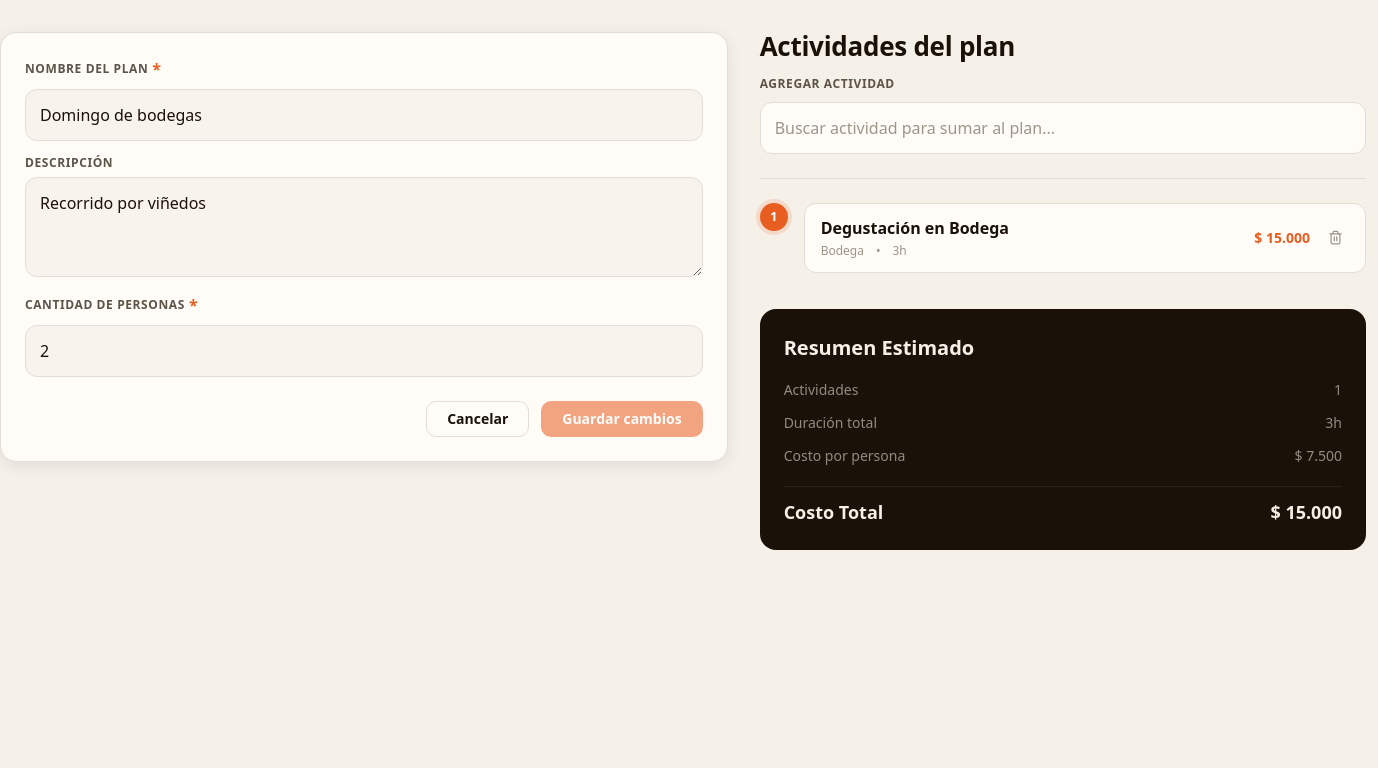
Scenario: EditPlanForm › loads existing plan values and updates fields on submit (CU25)
This screenshot has width=1378, height=768.
Expected: the text box labelled "Descripción" holds "Recorrido por viñedos", [25,177,703,277]
Expected: the number field labelled "Cantidad de personas" holds "2", [25,325,703,377]
Replace the text in the field labelled "Nombre del plan" with "Domingo en Luján" at (364, 115), box [25,89,703,141]
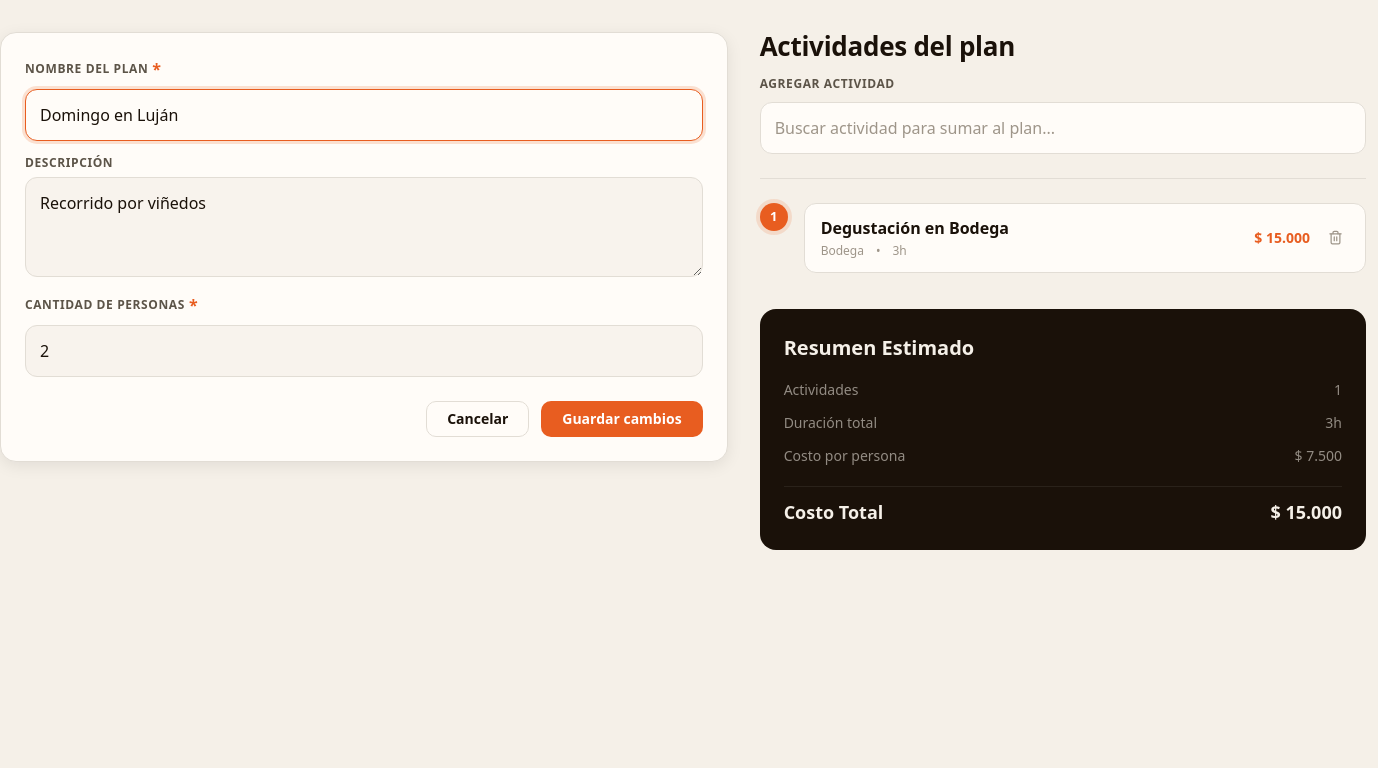
Replace the text in the text box labelled "Descripción" with "Nueva descripción" at (364, 227), box [25,177,703,277]
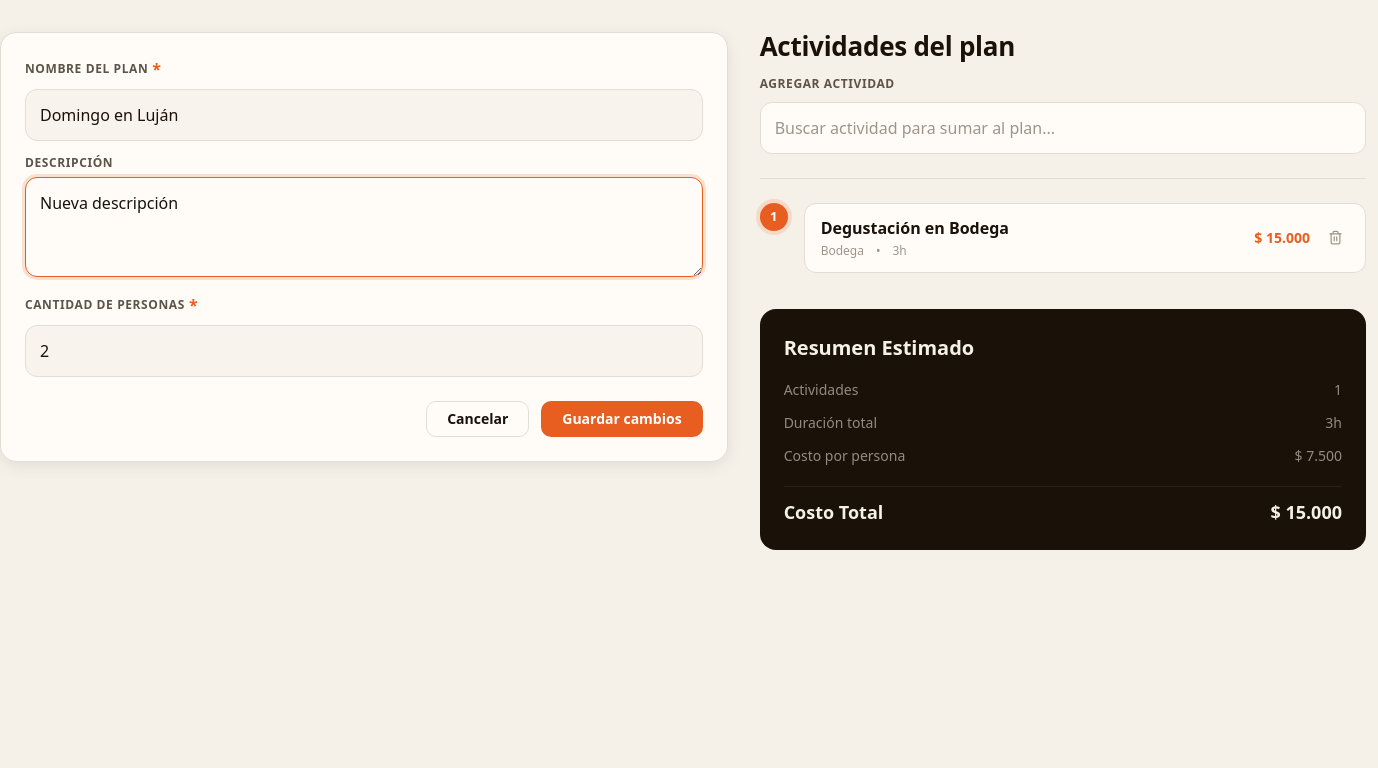
Replace the text in the number field labelled "Cantidad de personas" with "4" at (364, 351), box [25,325,703,377]
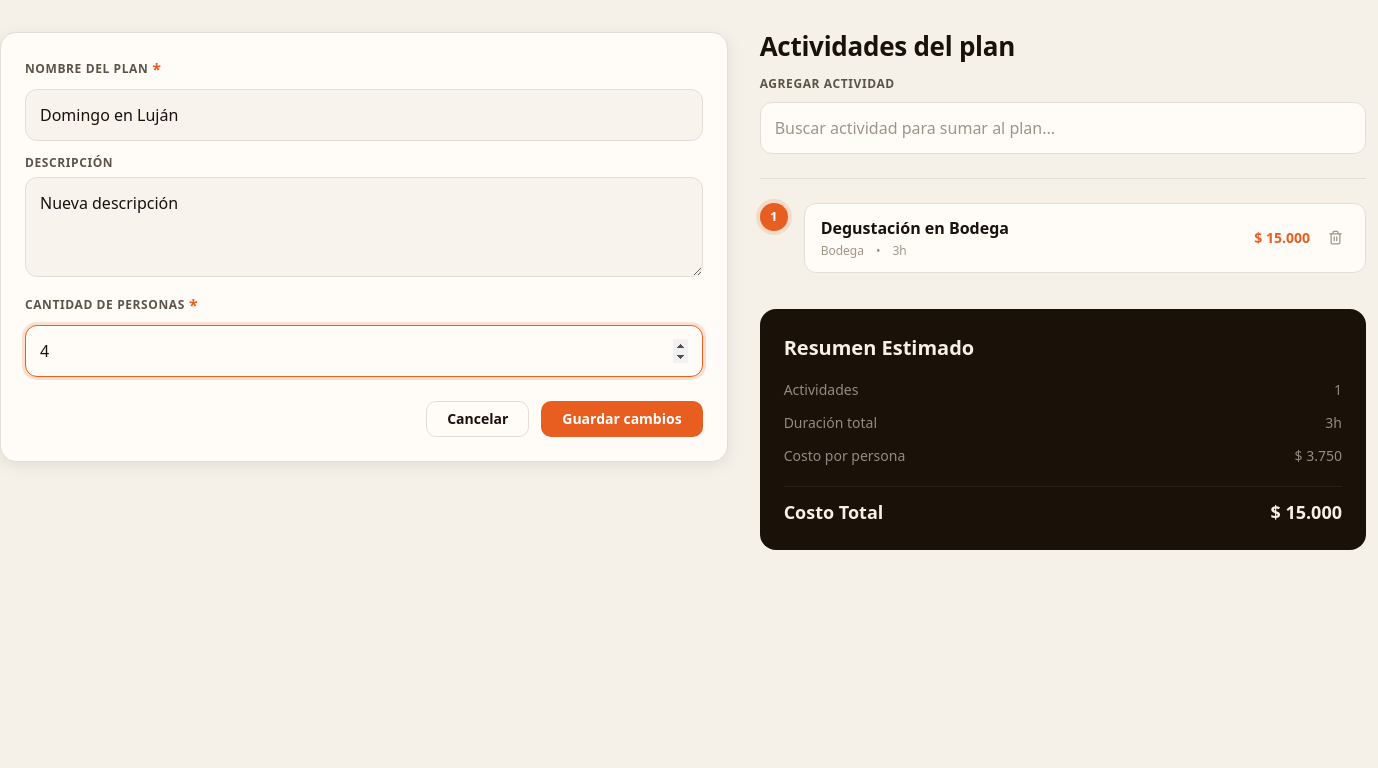
Click the button "Guardar cambios" at (622, 419), box [541,401,703,437]
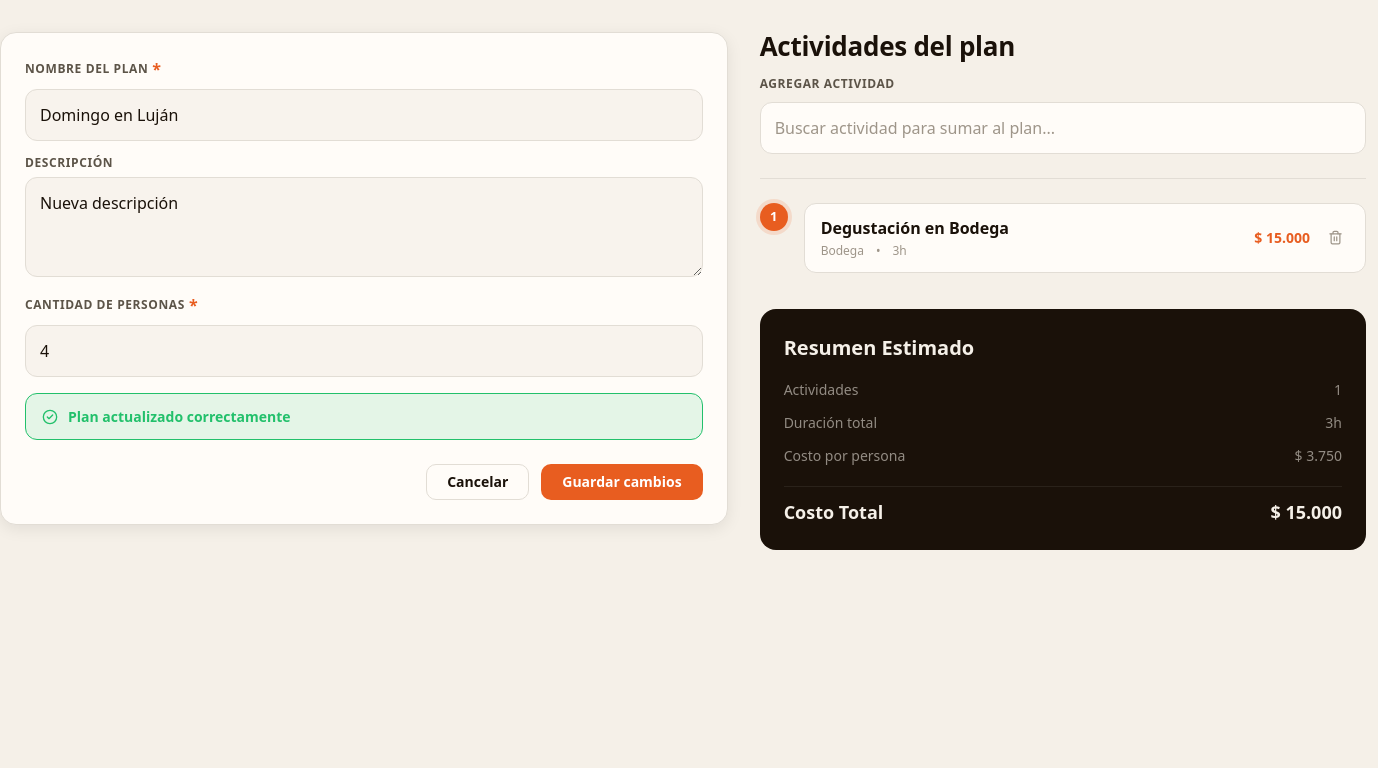
Result: the text "Plan actualizado correctamente" is shown at [68,406,291,427]
